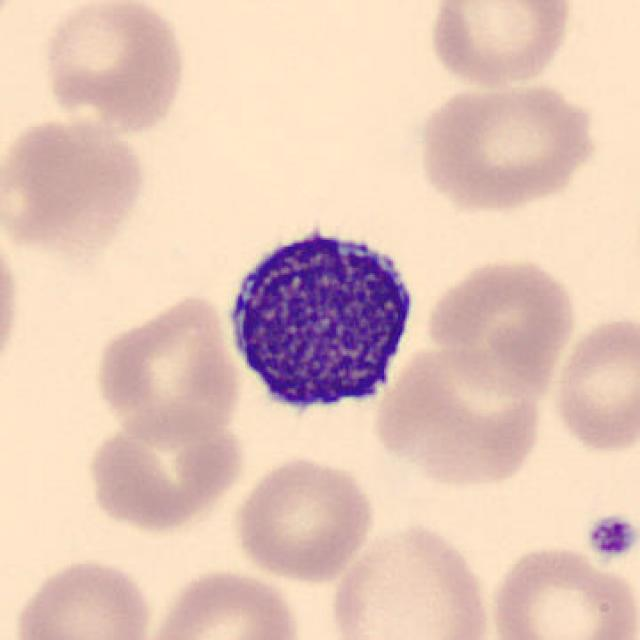Lymphocyte: (213, 212, 423, 430)
Platelets: (583, 510, 638, 564)
RBC: (368, 338, 551, 492), (410, 77, 602, 217), (91, 289, 245, 446), (422, 252, 580, 395), (0, 109, 149, 260), (82, 404, 249, 534), (37, 0, 190, 139), (327, 518, 494, 640), (231, 453, 379, 584), (486, 541, 638, 640), (423, 0, 576, 90), (548, 308, 638, 456), (8, 553, 158, 640), (140, 564, 304, 640), (0, 213, 27, 388)
